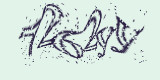1: (18, 8, 41, 56)
2: (37, 2, 64, 50), (83, 9, 102, 52)
6: (52, 27, 85, 60)
y: (111, 14, 146, 54), (96, 26, 116, 59)
